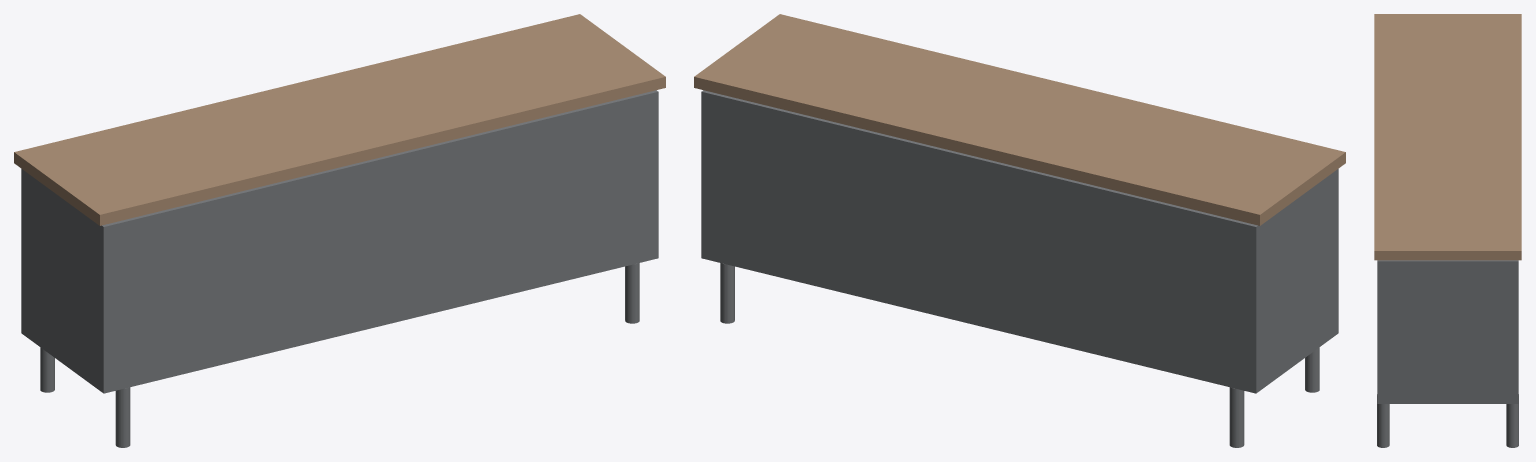
The picture shows the model from 3 angles, left to right: view 1: azimuth 30°, elevation 25°; view 2: azimuth 150°, elevation 25°; view 3: azimuth 270°, elevation 25°; orthographic projection. The views are drawn at different scales.
Parts seen in each view (by area): view 1: Cube.001, Cube, Cylinder, Cylinder.002; view 2: Cube.001, Cube, Cylinder.001, Cylinder.003; view 3: Cube, Cube.001, Cylinder.002, Cylinder.003.
Part boxes in pixels (box(x1,y1,x2,y2)): Cube.001: box(21, 90, 658, 393); Cube: box(14, 14, 665, 225); Cylinder: box(115, 387, 130, 447); Cylinder.002: box(625, 263, 639, 323); Cube.001: box(701, 90, 1338, 393); Cube: box(694, 14, 1345, 225); Cylinder.001: box(1229, 387, 1244, 447); Cylinder.003: box(720, 263, 734, 323); Cube: box(1374, 14, 1521, 260); Cube.001: box(1377, 260, 1518, 403); Cylinder.002: box(1377, 394, 1389, 447); Cylinder.003: box(1506, 394, 1518, 447).
Size of the model in its own units: 1.6 by 0.65 by 0.42.
